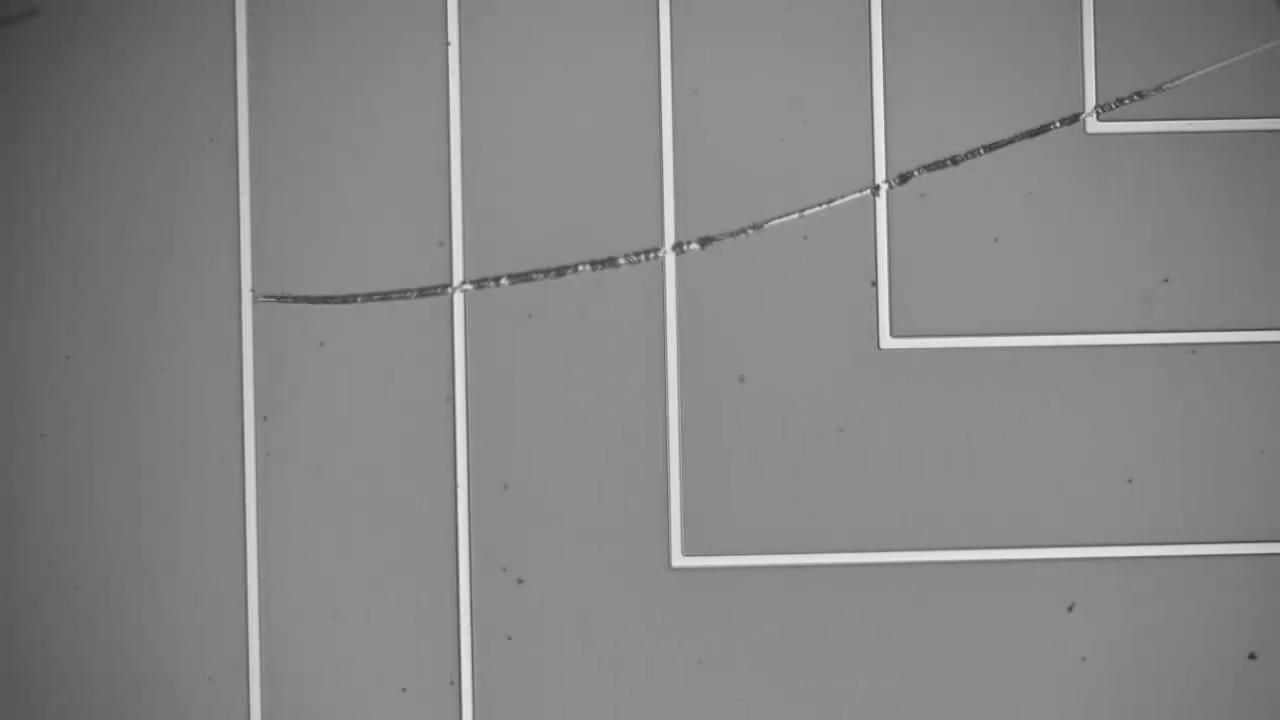scratch: (262, 28, 1275, 334)
